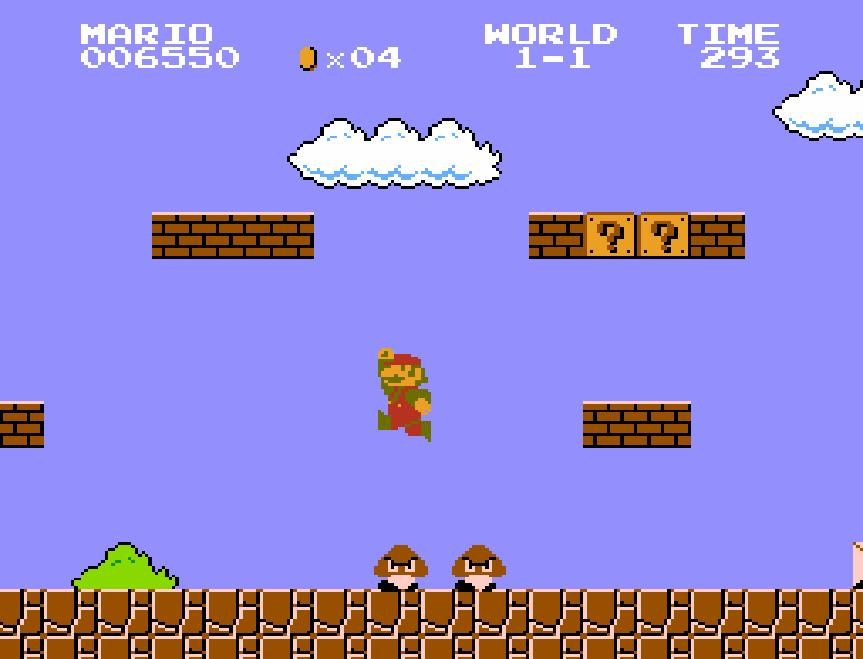big_mario: (376, 346, 434, 444)
